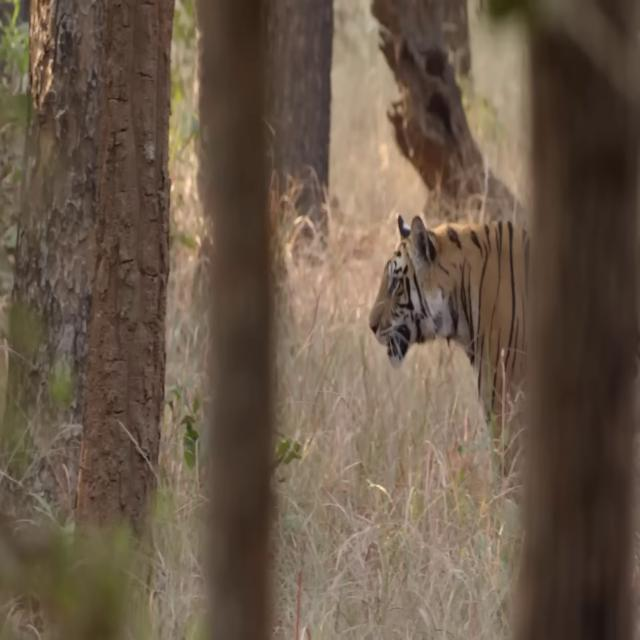tiger: (368, 214, 538, 503)
